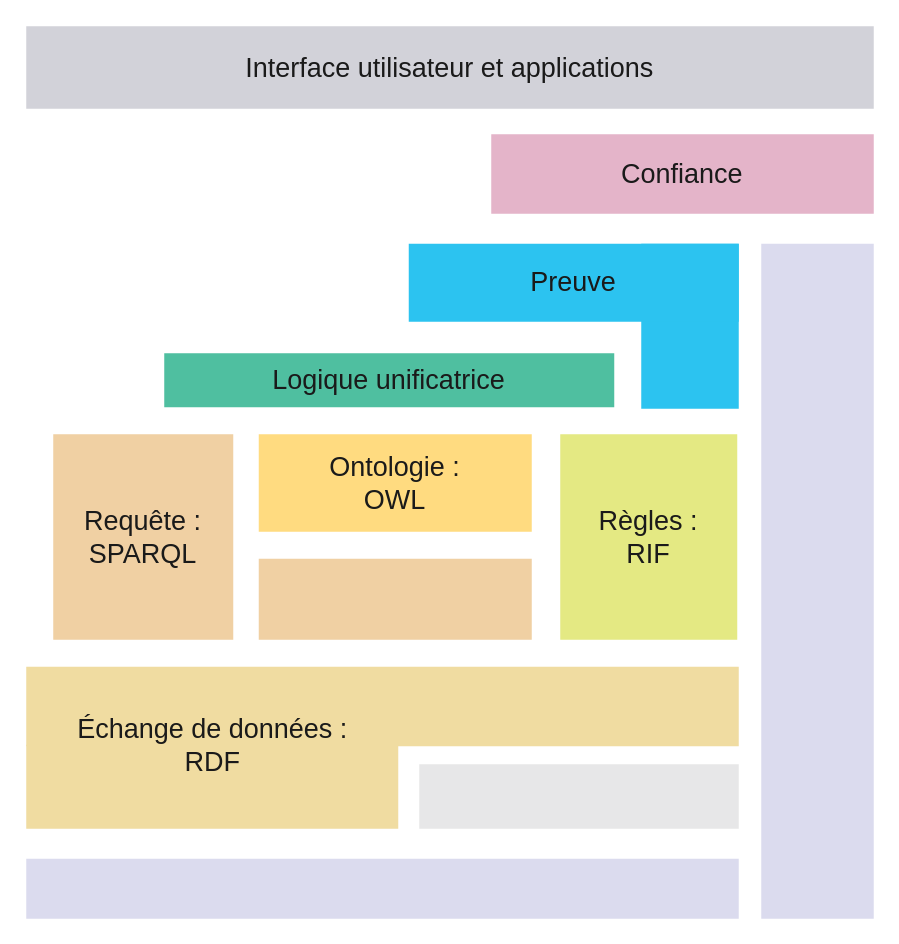
Some shapes in this 899 by 944 pixel diagram are drawn without their labels. The shapes that lost their labels are listed below. From the top down, each one's centre as x and y in pixels, then its label:
the point at 394,598: RDFS
the point at 816,580: Cryptographie
the point at 578,796: XML
the point at 382,888: URI / IRI
